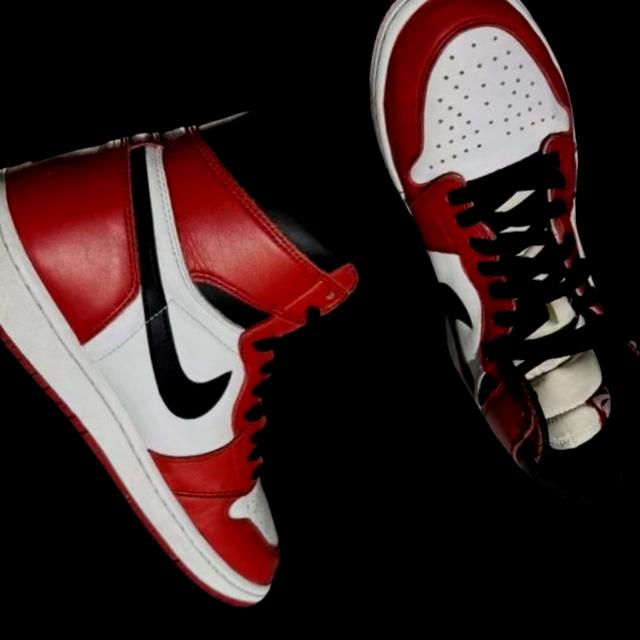nike_original_jordan: (0, 30, 471, 640), (300, 0, 640, 549)
